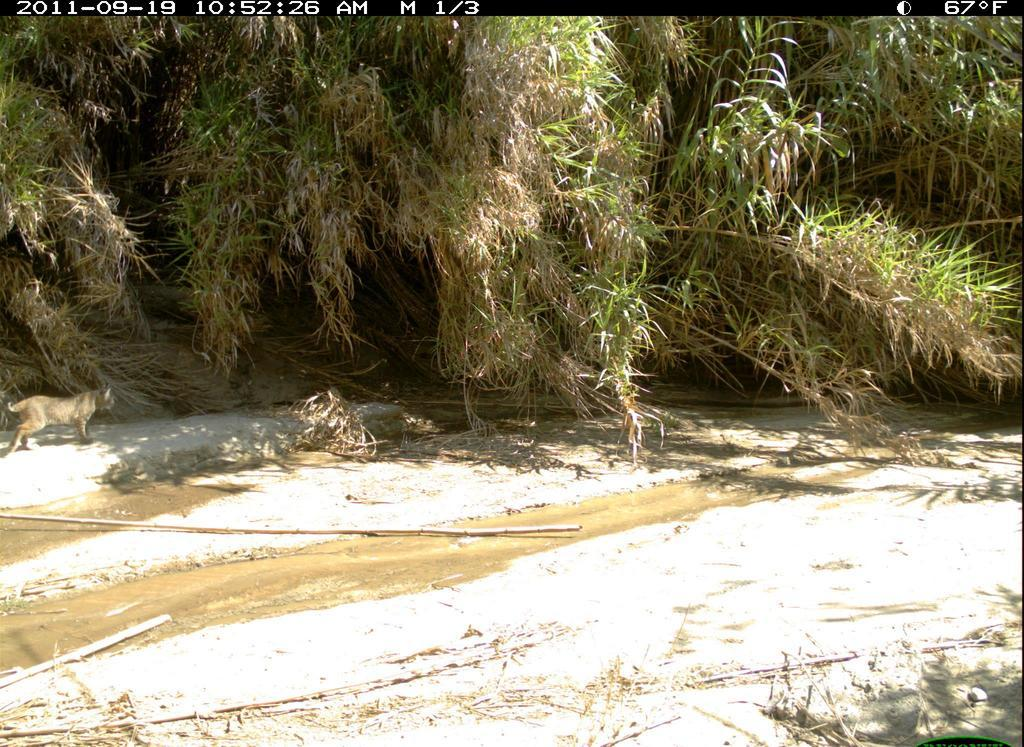bobcat: (2, 379, 123, 463)
